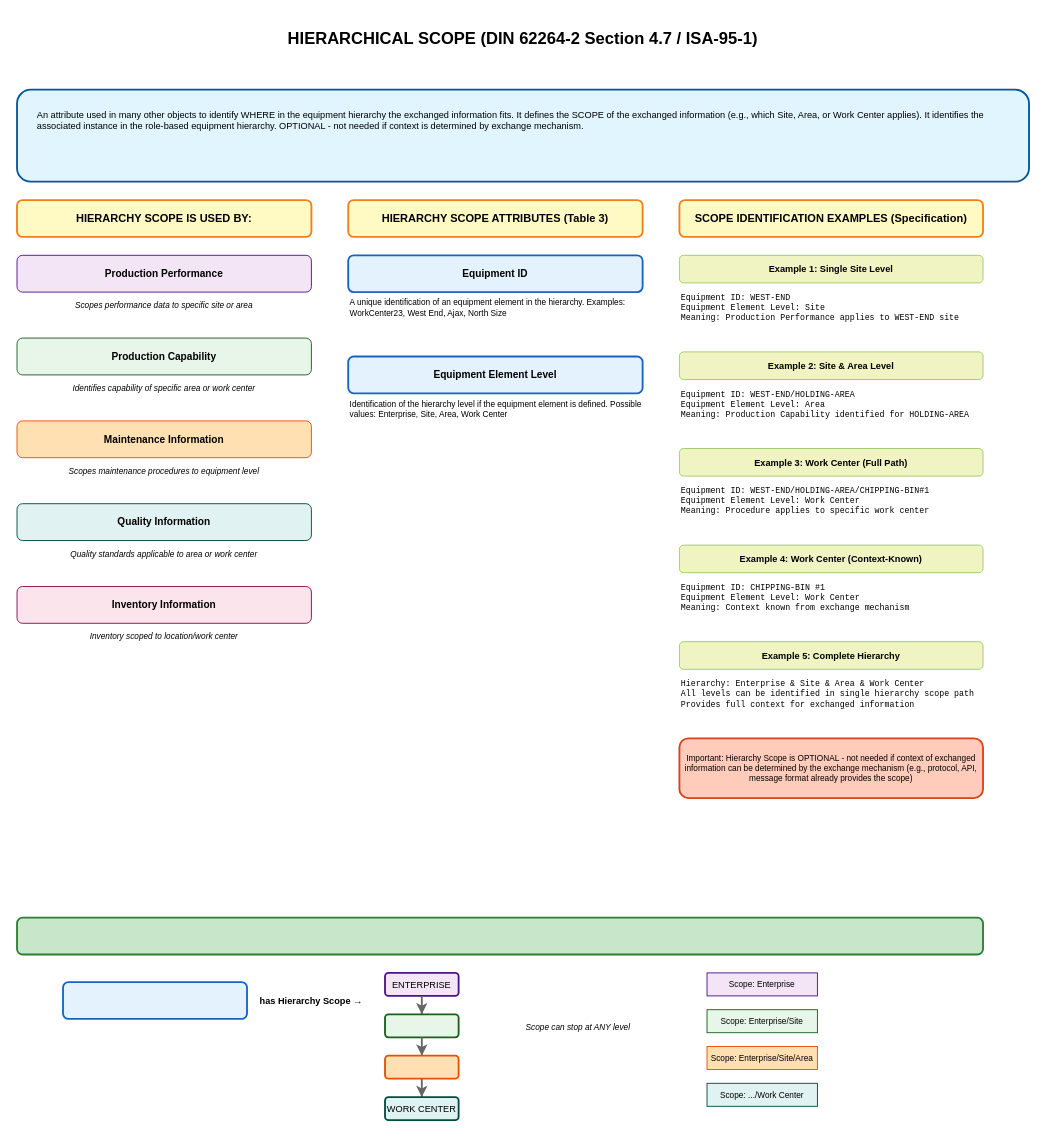
Some shapes in this 1045 by 1136 pixel diagram are drawn without their labels. The shapes that lost their labels are listed below. From the top down, each one's box as (x1, y1, x2, y2) in pixels, then its label:
(16, 88, 1029, 182): WHAT IS HIERARCHY SCOPE? (It's an ATTRIBUTE)
(16, 916, 983, 955): HOW OBJECTS USE HIERARCHY SCOPE
(62, 981, 247, 1019): Object: Production Capability
(384, 1013, 459, 1038): SITE
(384, 1054, 459, 1079): AREA
